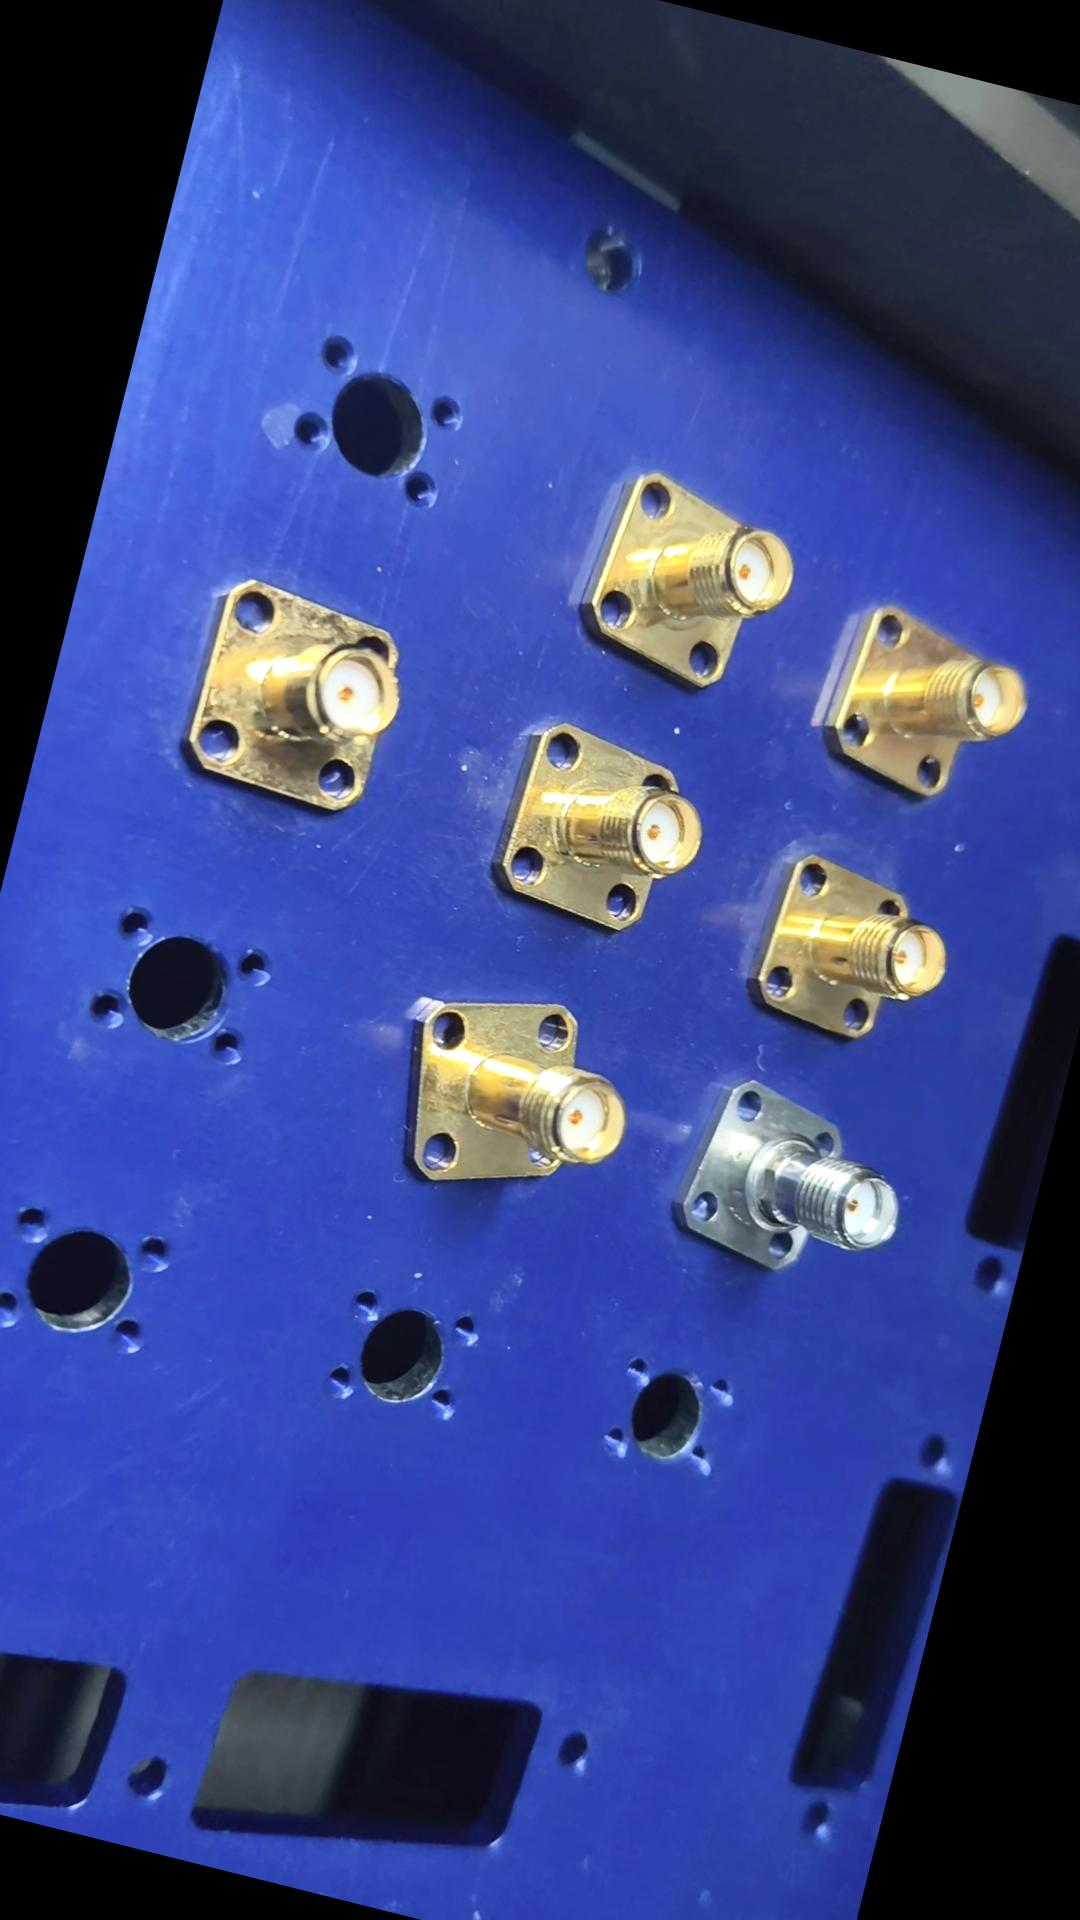SMA: (373, 968, 650, 1224), (166, 570, 423, 825), (657, 1064, 924, 1300), (471, 711, 727, 951), (556, 458, 802, 704), (804, 597, 1043, 819), (735, 840, 967, 1062)
